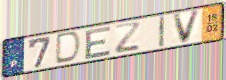7: (27, 35, 52, 69)
D: (53, 30, 83, 66)
E: (84, 25, 113, 61)
I: (158, 14, 166, 49)
V: (172, 8, 203, 45)
Z: (114, 21, 142, 55)
